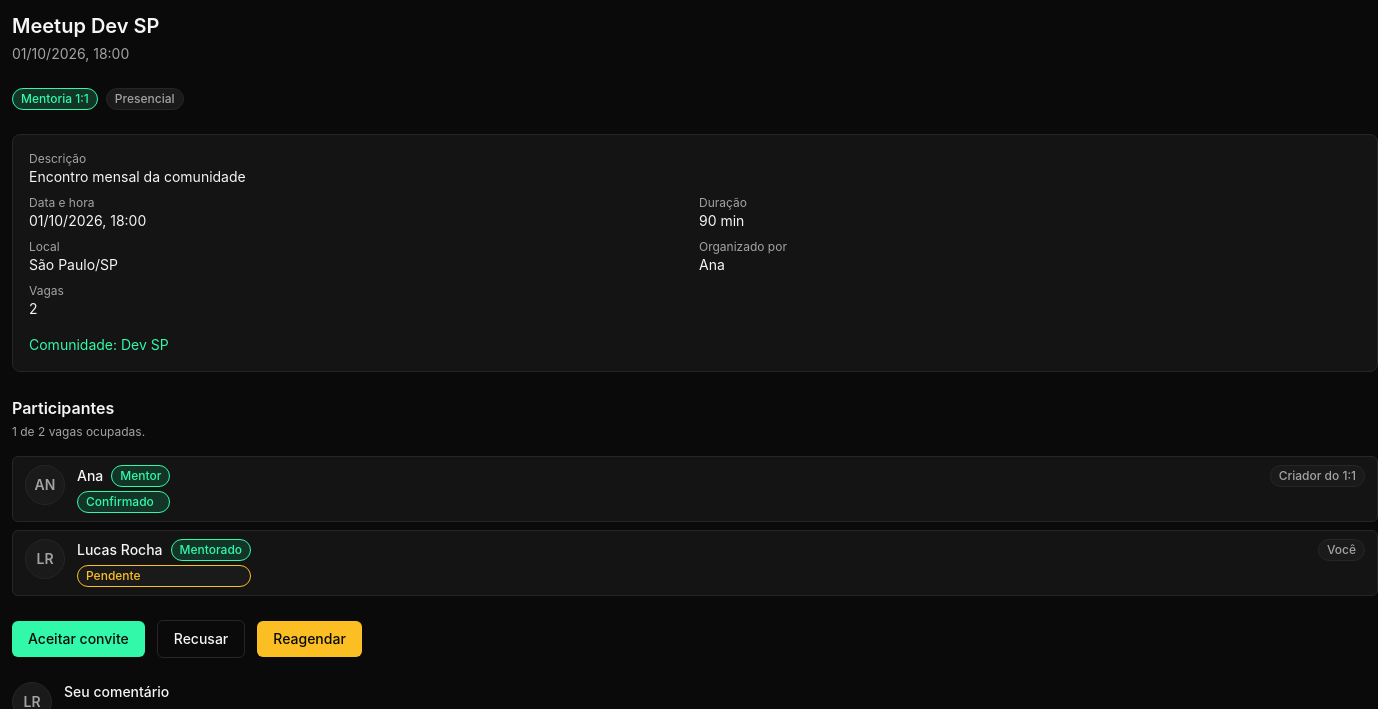
EventDetailPage › mentorado aceita o convite na lista de participantes
The image size is (1378, 709).
Expected: the heading "Participantes" is shown, [12,398,114,418]
Expected: the link "Lucas Rocha" is shown, [77,540,163,560]
Click the button "Aceitar convite": (78,639) [12,621,145,657]
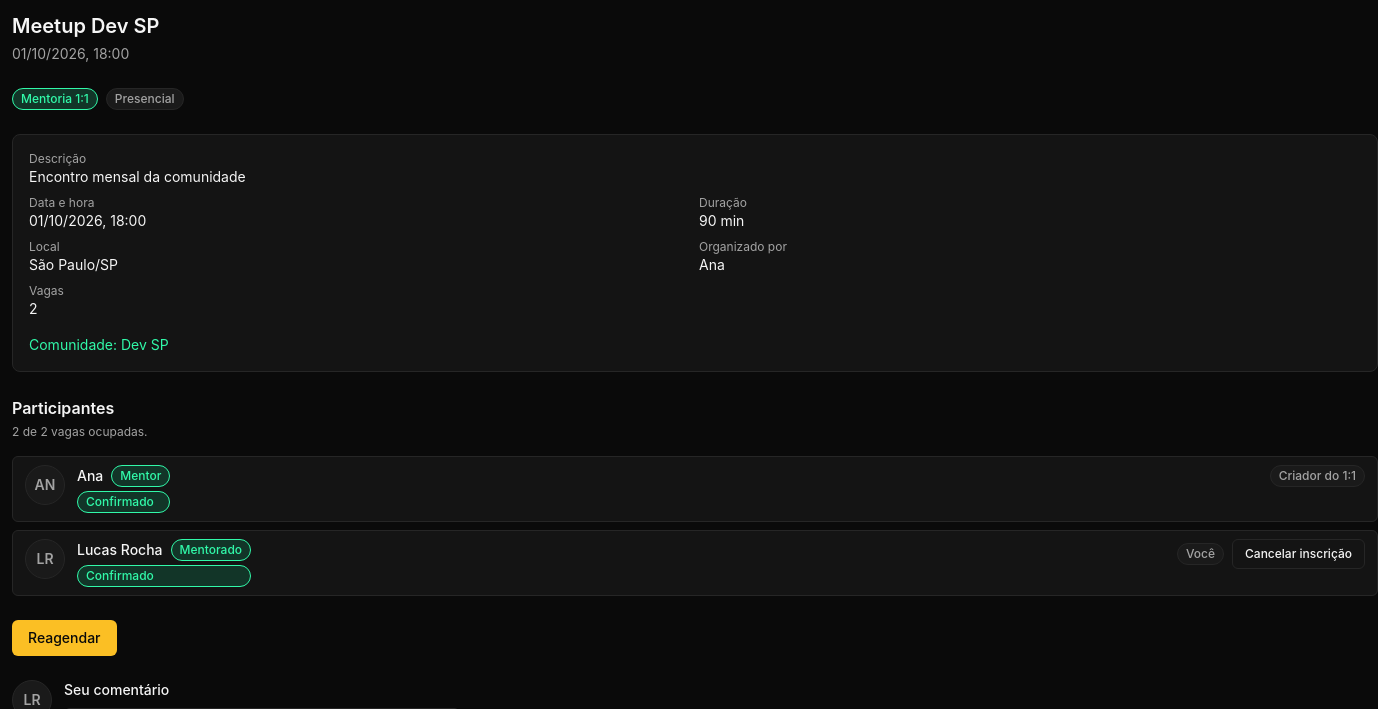
Expected: the text "Você" is shown, [1177,543,1224,565]
Now the button "Aceitar convite" is gone
Now the text "Pendente" is gone
